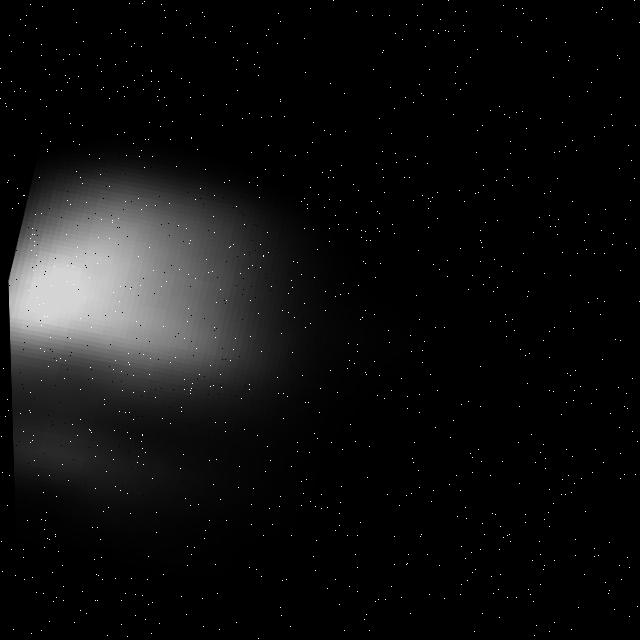person: (4, 85, 483, 479)
